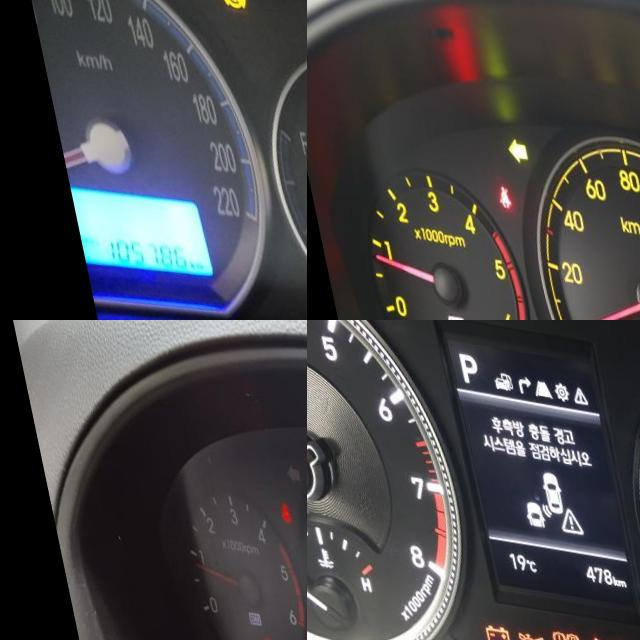Doors: (243, 631, 256, 640)
